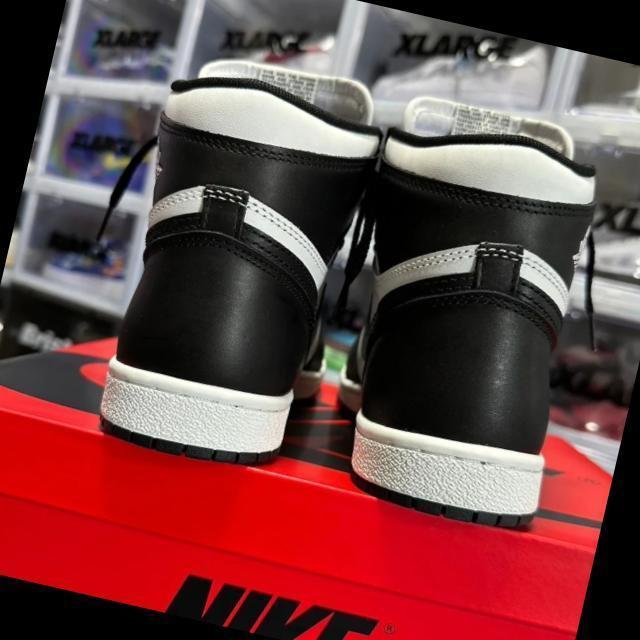nike original jordan 1: (87, 28, 396, 482), (318, 84, 621, 536)
